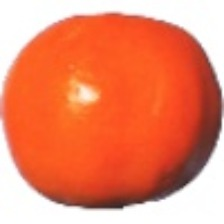tangerine: (17, 31, 185, 198)
